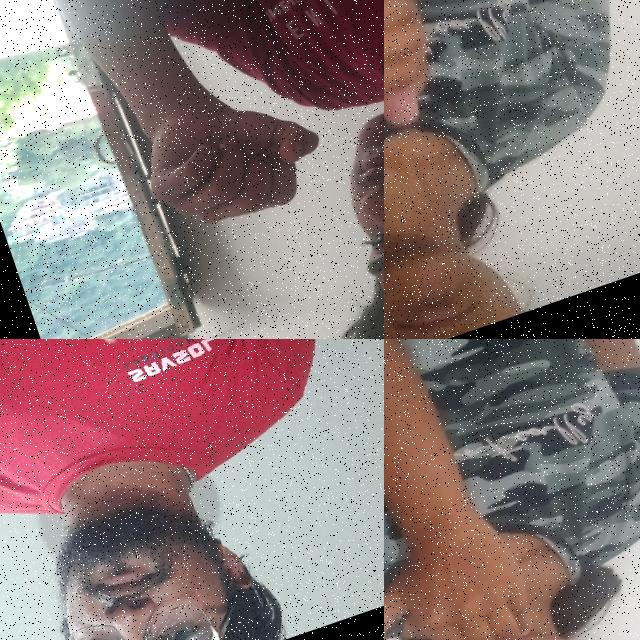Chin Flick: (384, 472, 640, 640)
Dulya: (384, 0, 463, 169)
Fist Mouth: (97, 0, 384, 339)
